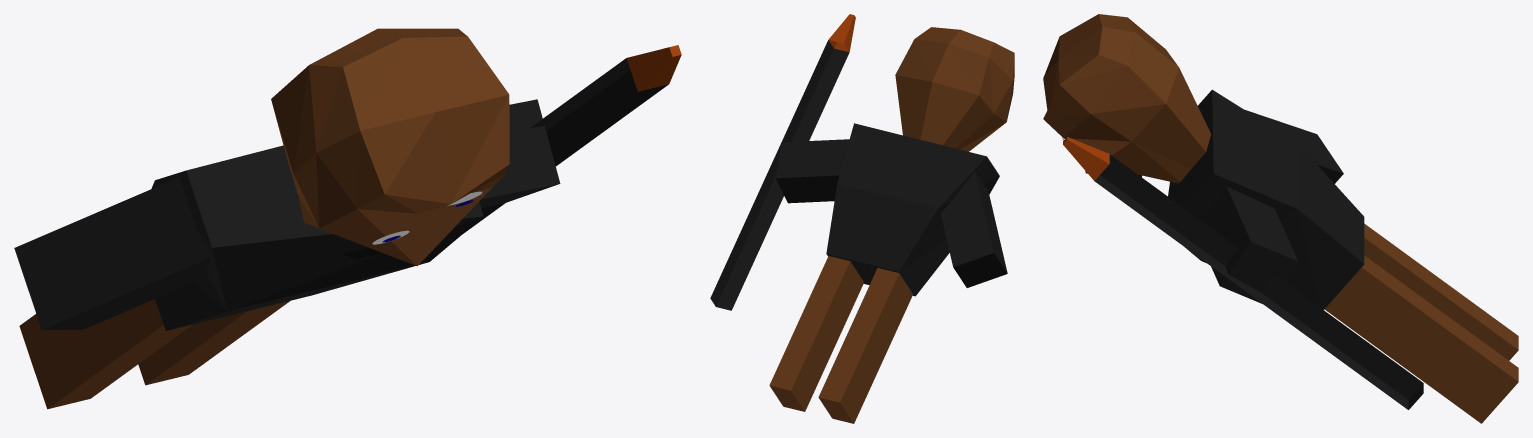
Rendered from spearman2d.obj.
3 views of the same model, side by side, from view 1: azimuth 30°, elevation 25°; view 2: azimuth 150°, elevation 25°; view 3: azimuth 270°, elevation 25° (orthographic). The views are drawn at different scales.
Parts seen in each view (by area): view 1: Cube, Cube.001, Cube.003, Cube.004, Cube.007, Cube.002, Cube.005; view 2: Cube.001, Cube, Cube.007, Cube.005, Cube.004, Cube.003, Cube.002; view 3: Cube, Cube.001, Cube.005, Cube.007, Cube.002, Cube.004, Cube.003.
Boxes of the visible parts, x1,y1,x2,y2 form: Cube: [271, 28, 509, 266]; Cube.001: [151, 145, 483, 330]; Cube.003: [14, 177, 210, 329]; Cube.004: [19, 299, 192, 409]; Cube.007: [463, 45, 681, 233]; Cube.002: [479, 99, 560, 207]; Cube.005: [138, 300, 290, 385]; Cube.001: [826, 123, 999, 296]; Cube: [895, 27, 1014, 151]; Cube.007: [710, 14, 855, 310]; Cube.005: [769, 256, 863, 411]; Cube.004: [818, 268, 912, 423]; Cube.003: [941, 171, 1007, 287]; Cube.002: [775, 139, 849, 203]; Cube: [1043, 14, 1211, 183]; Cube.001: [1168, 89, 1364, 309]; Cube.005: [1324, 255, 1518, 423]; Cube.007: [1063, 137, 1423, 409]; Cube.002: [1200, 186, 1297, 303]; Cube.004: [1364, 223, 1518, 360]; Cube.003: [1244, 109, 1343, 183].
Size of the model in its own units: 3.88 by 4.28 by 4.93.
